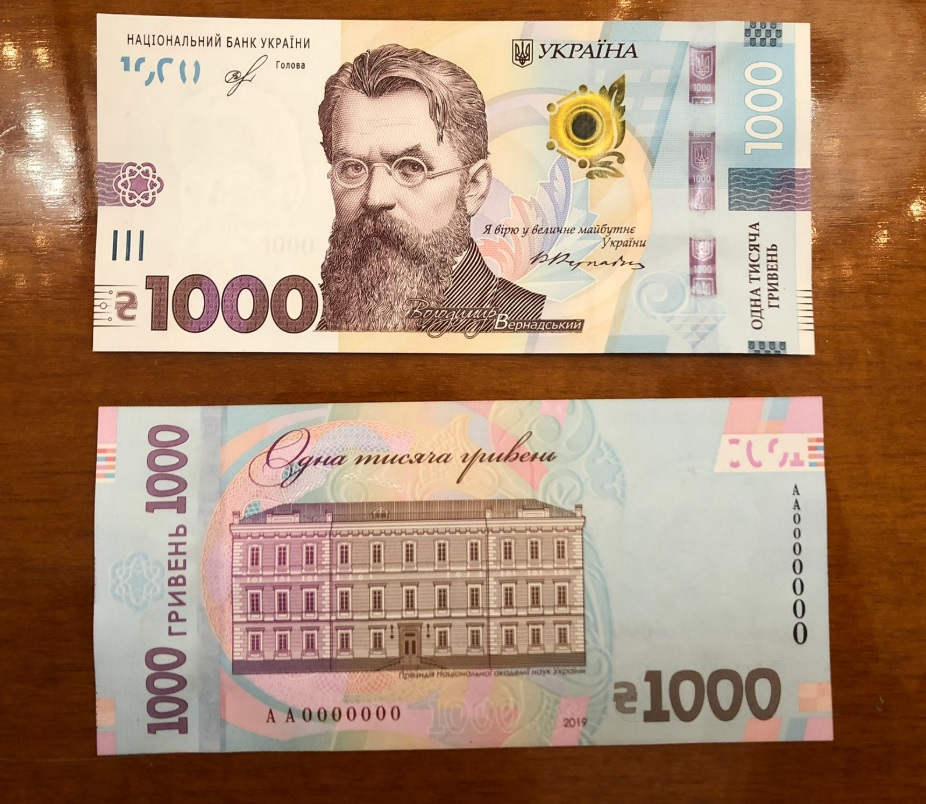bn_1000: (100, 408, 834, 740), (99, 16, 817, 355)
